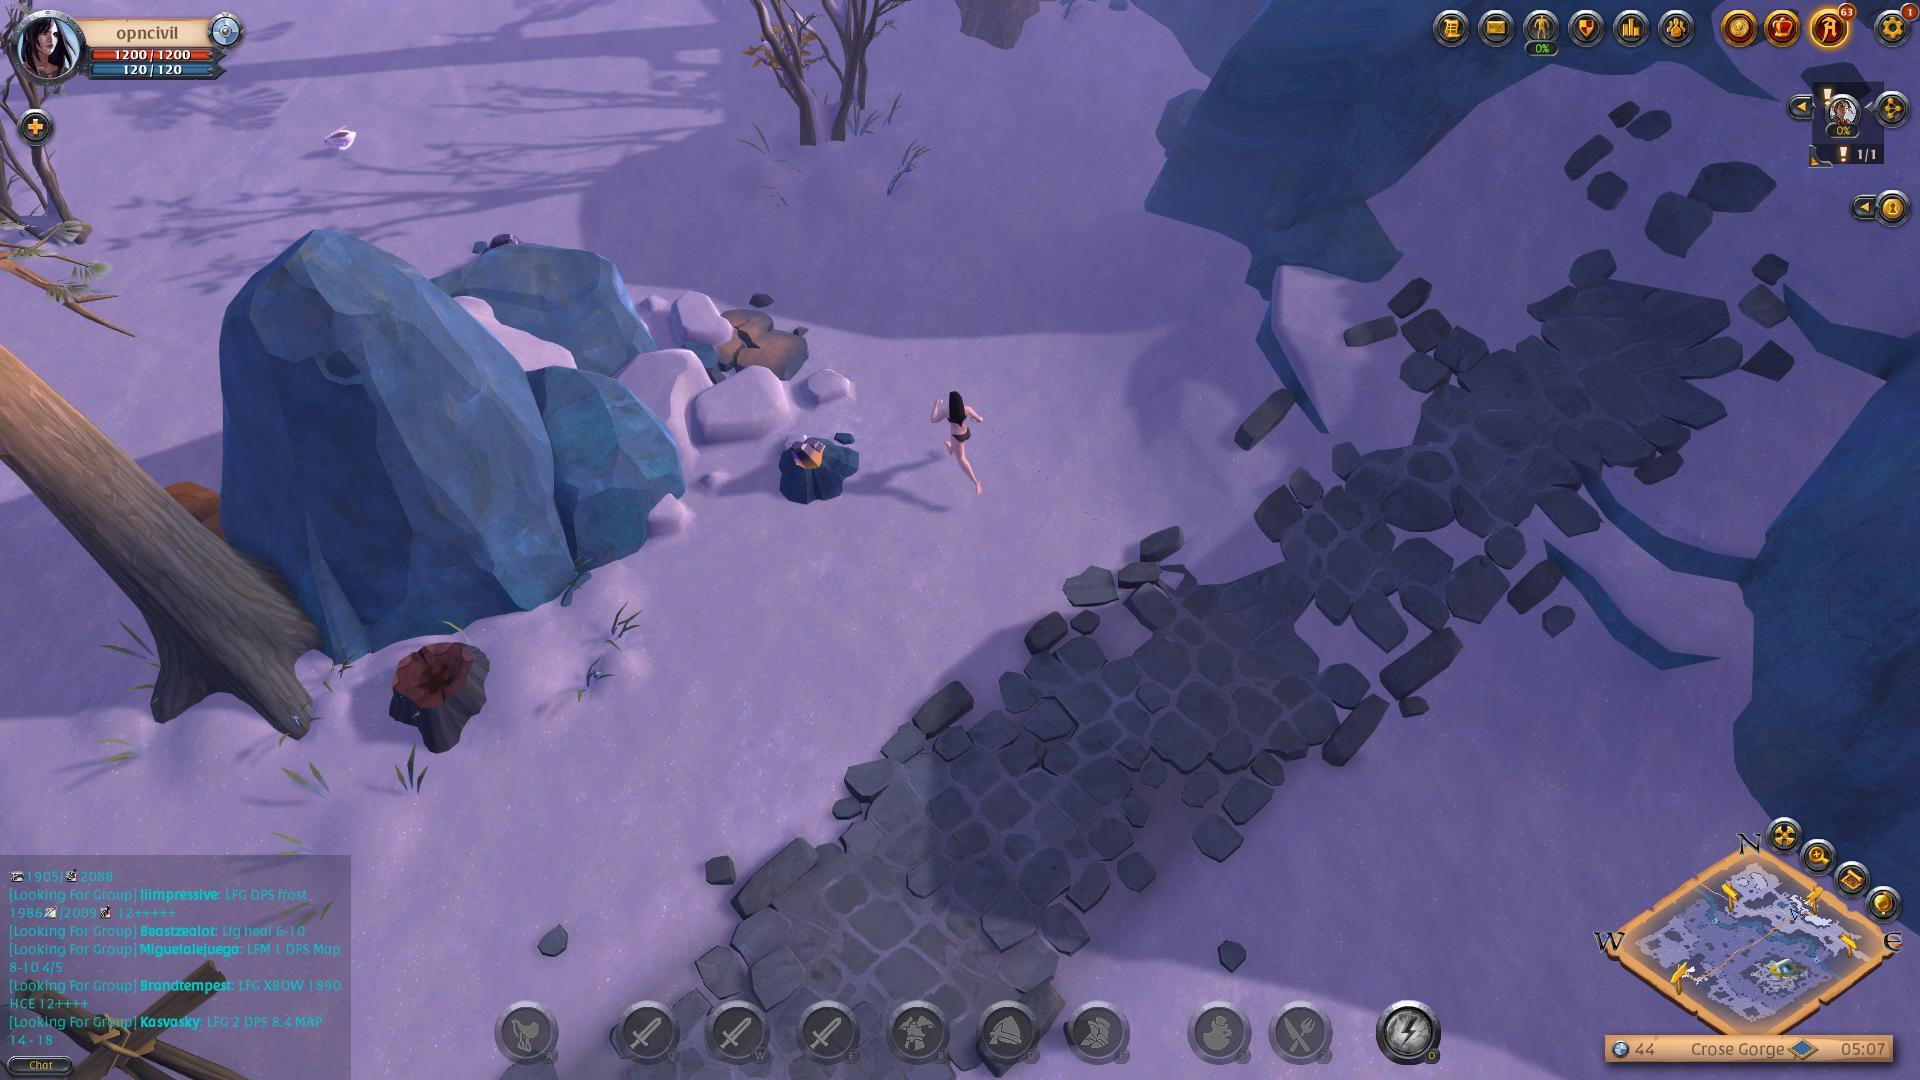copper_ore: (769, 422, 874, 516)
